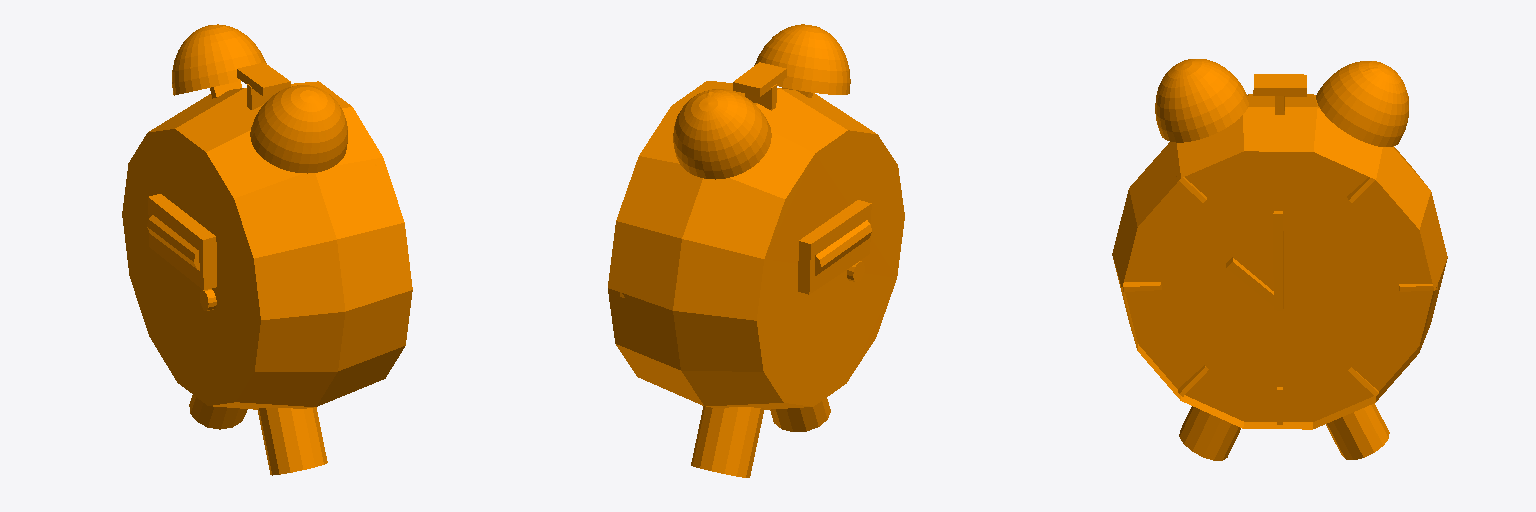
File: SuperPowerClock.obj
3 views of the same model, side by side, from view 1: azimuth 30°, elevation 25°; view 2: azimuth 150°, elevation 25°; view 3: azimuth 270°, elevation 25° (orthographic).
Visible parts, largest first — view 1: Handle1; view 2: Handle1; view 3: Handle1.
Part boxes in pixels (x1,y1,x2,y2): Handle1: (122, 24, 412, 475); Handle1: (608, 24, 904, 477); Handle1: (1112, 59, 1447, 460).
Size of the model in its own units: 0.8243 by 1.86 by 1.44.